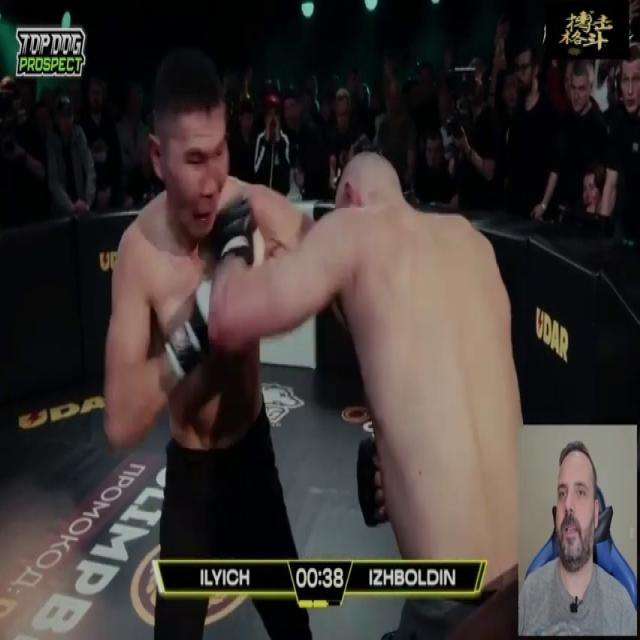fight: (64, 25, 547, 639)
